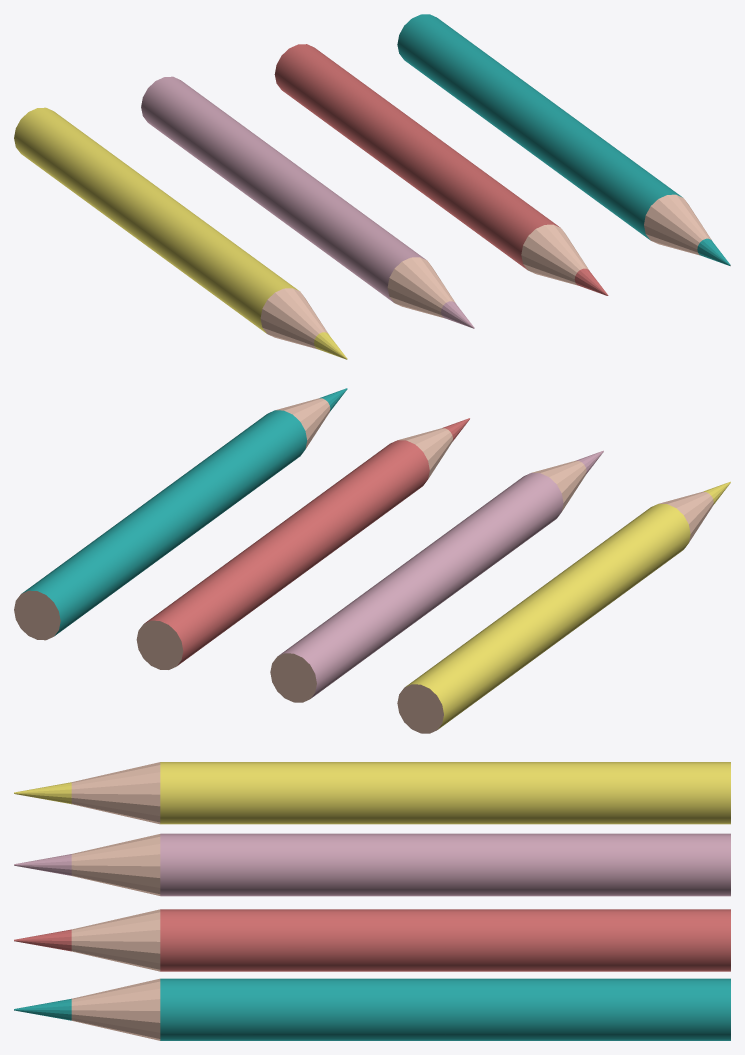
The model's file is kalemler.fbx.
The picture shows the model from 3 angles, top to bottom: view 1: azimuth 30°, elevation 25°; view 2: azimuth 150°, elevation 25°; view 3: azimuth 270°, elevation 25°; orthographic projection. The views are drawn at different scales.
Parts seen in each view (by area): view 1: polySurface1 (×4), polySurface2 (×4); view 2: polySurface2 (×4), polySurface1 (×4); view 3: polySurface1 (×4), polySurface2 (×4).
Part boxes in pixels (x1,y1,x2,y2): polySurface1 (×4): (137,104,730,359); polySurface2 (×4): (14,14,559,243); polySurface2 (×4): (14,500,567,733); polySurface1 (×4): (145,388,730,639); polySurface1 (×4): (14,762,445,1040); polySurface2 (×4): (445,762,730,1040).
Bounding box in the file's own units: 12.62 × 1.37 × 15.74.
